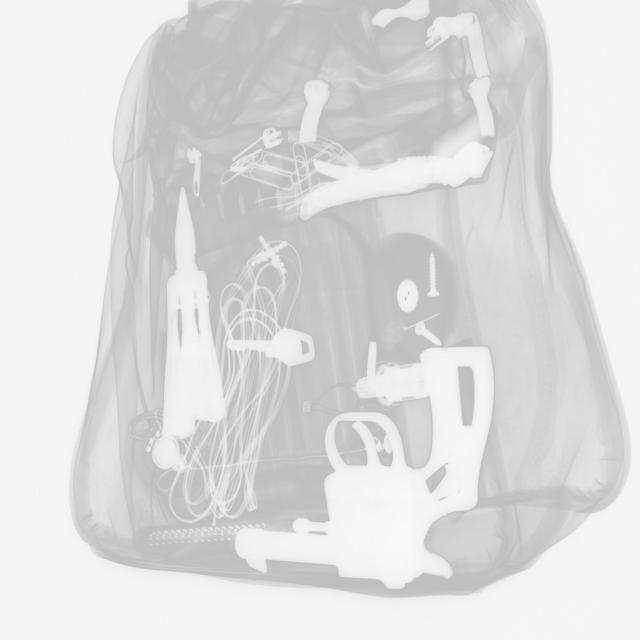pistol: (235, 344, 495, 589)
